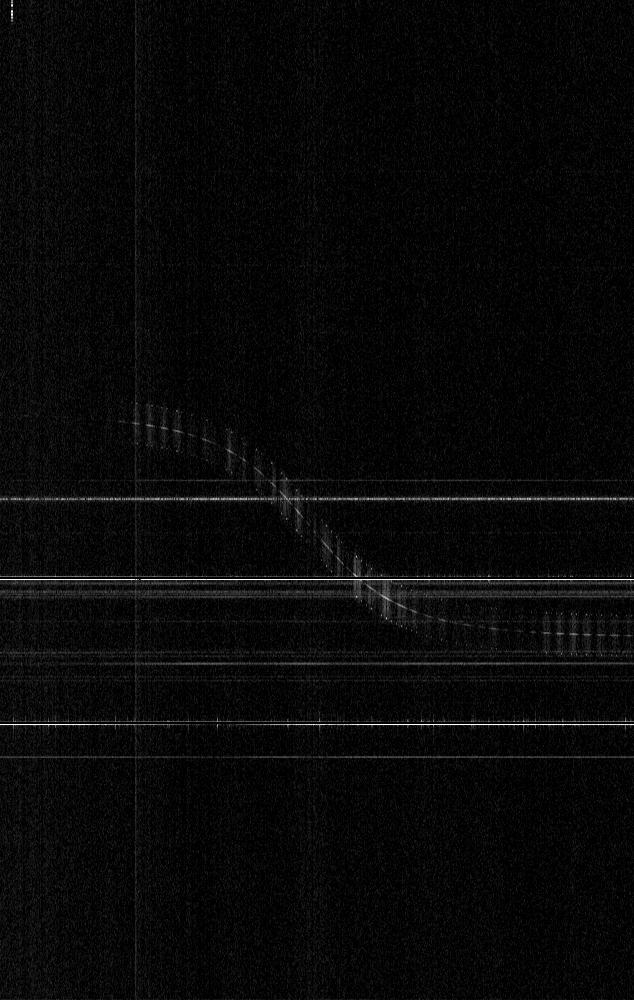signal: (0, 0, 633, 999)
